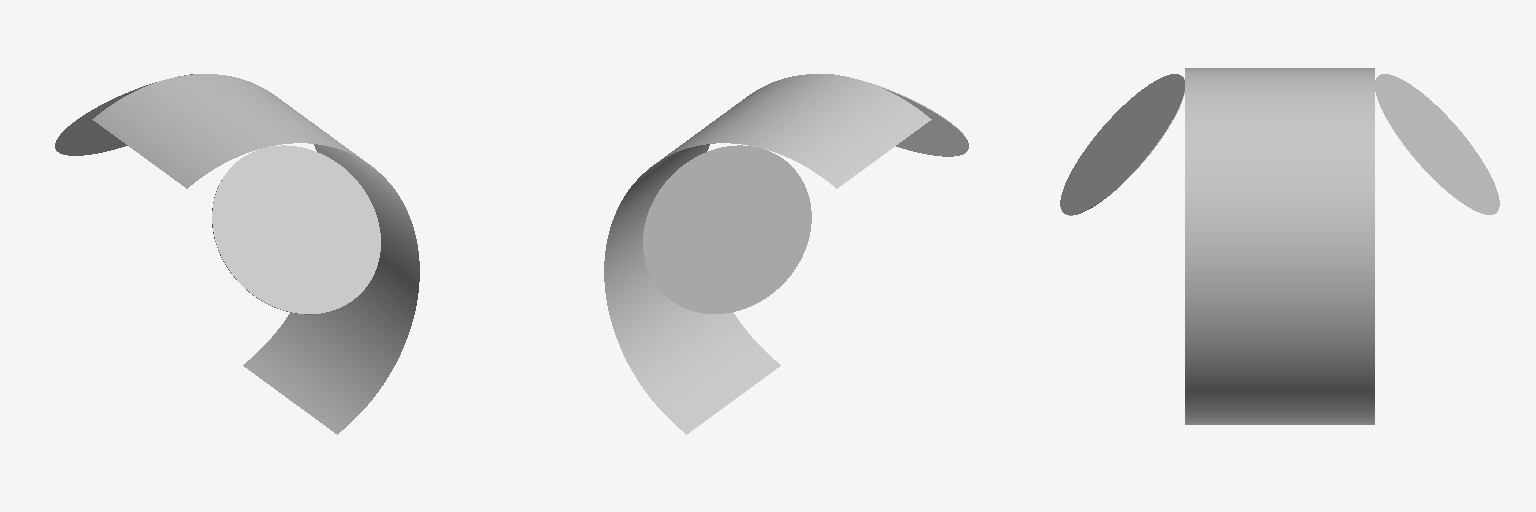
Rendered from plane bend51.obj.
3 views of the same model, side by side, from view 1: azimuth 30°, elevation 25°; view 2: azimuth 150°, elevation 25°; view 3: azimuth 270°, elevation 25° (orthographic).
Visible parts, largest first — view 1: Plane, Circle, Circle.001; view 2: Plane, Circle.001, Circle; view 3: Plane, Circle, Circle.001.
Part boxes in pixels (left/top/right/bottom): Plane: left=92, top=74, right=419, bottom=434; Circle: left=212, top=145, right=380, bottom=314; Circle.001: left=55, top=74, right=192, bottom=155; Plane: left=604, top=74, right=931, bottom=434; Circle.001: left=643, top=145, right=811, bottom=313; Circle: left=831, top=74, right=968, bottom=156; Plane: left=1185, top=68, right=1374, bottom=424; Circle: left=1060, top=74, right=1184, bottom=215; Circle.001: left=1375, top=74, right=1499, bottom=214.
Bounding box in the file's own units: 2.84 × 3.55 × 4.64.